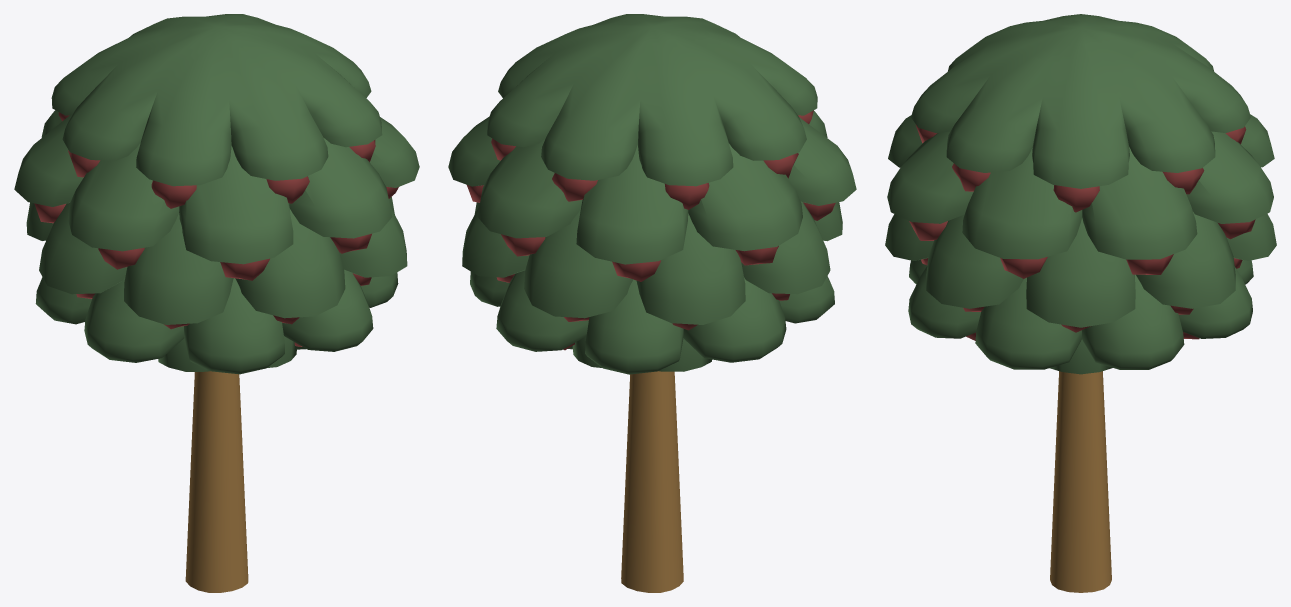
The model's file is pf_Tree_Fruit.glb.
3 views of the same model, side by side, from view 1: azimuth 30°, elevation 25°; view 2: azimuth 150°, elevation 25°; view 3: azimuth 270°, elevation 25° (orthographic).
Visible parts, largest first — view 1: Tree_Fruit; view 2: Tree_Fruit; view 3: Tree_Fruit.
Boxes of the visible parts, left/top/right/bottom form: Tree_Fruit: left=14, top=14, right=419, bottom=592; Tree_Fruit: left=448, top=14, right=856, bottom=592; Tree_Fruit: left=885, top=14, right=1276, bottom=592.
Bounding box in the file's own units: 5.53 × 8.63 × 5.55.
